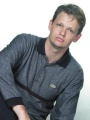male: (47, 4, 84, 52)
